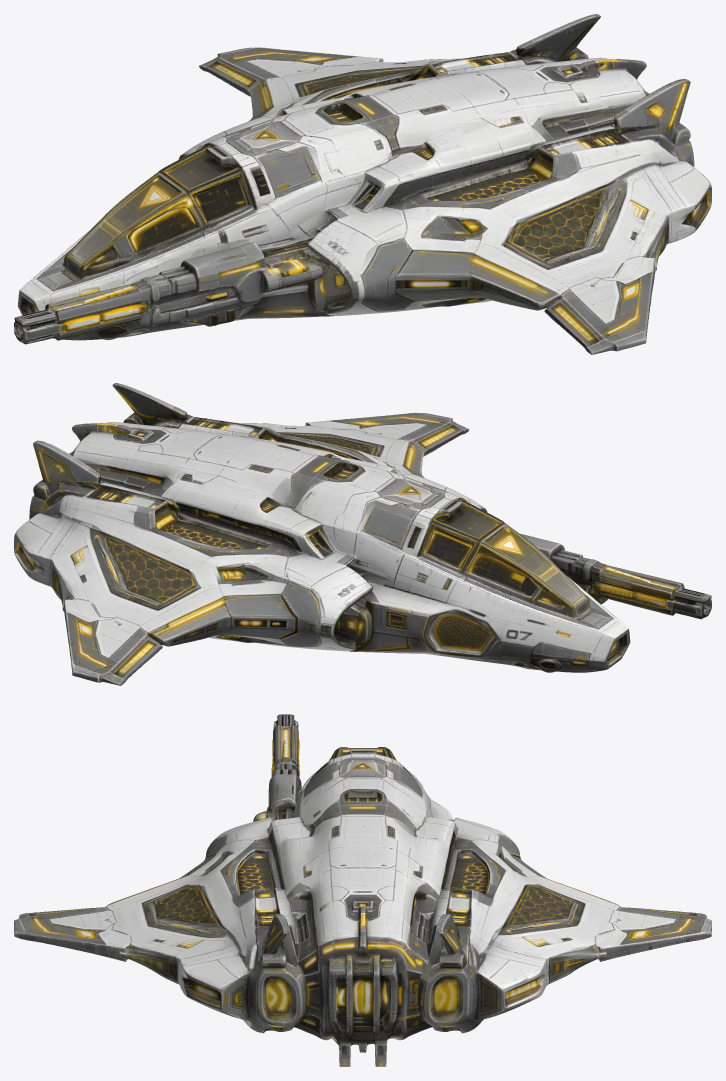
File: Meshy_AI_Sniper_Class_Space_Fi_0625034459_image-to-3d-texture.glb
The picture shows the model from 3 angles, top to bottom: view 1: azimuth 30°, elevation 25°; view 2: azimuth 150°, elevation 25°; view 3: azimuth 270°, elevation 25°; orthographic projection. The views are drawn at different scales.
Bounding box in the file's own units: 1.85 × 0.461 × 1.9.
1 material, 1 textured.
